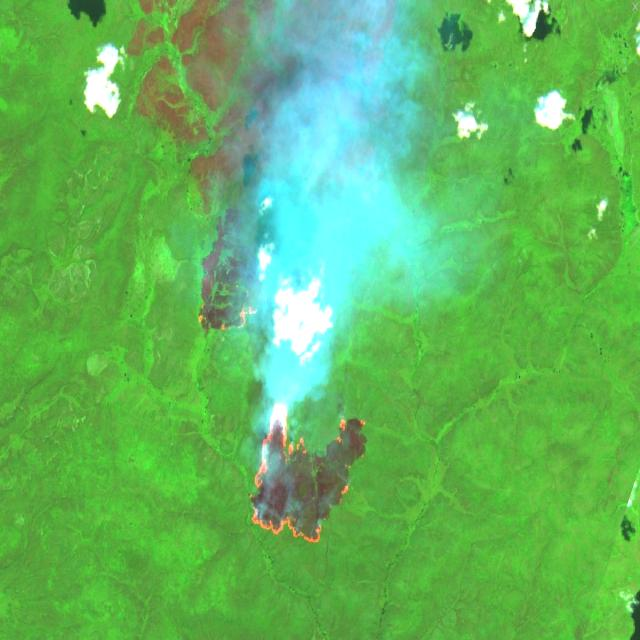fire: (245, 391, 371, 553), (195, 296, 261, 335)
